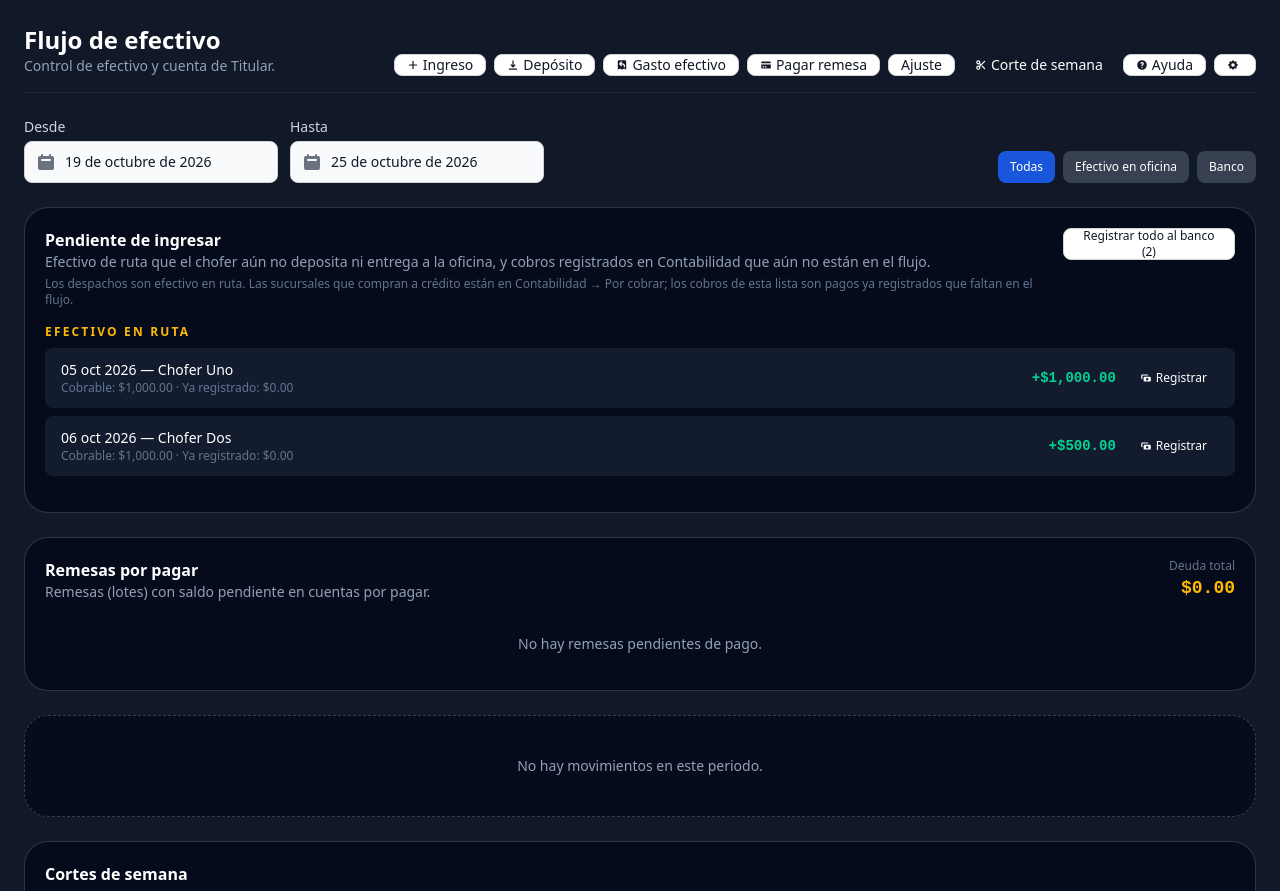
Test case: EggCashFlowPage › registers pending trips and summarizes failures
Click the button "Registrar todo al banco (2)": (1149, 244) [1063,228,1235,260]
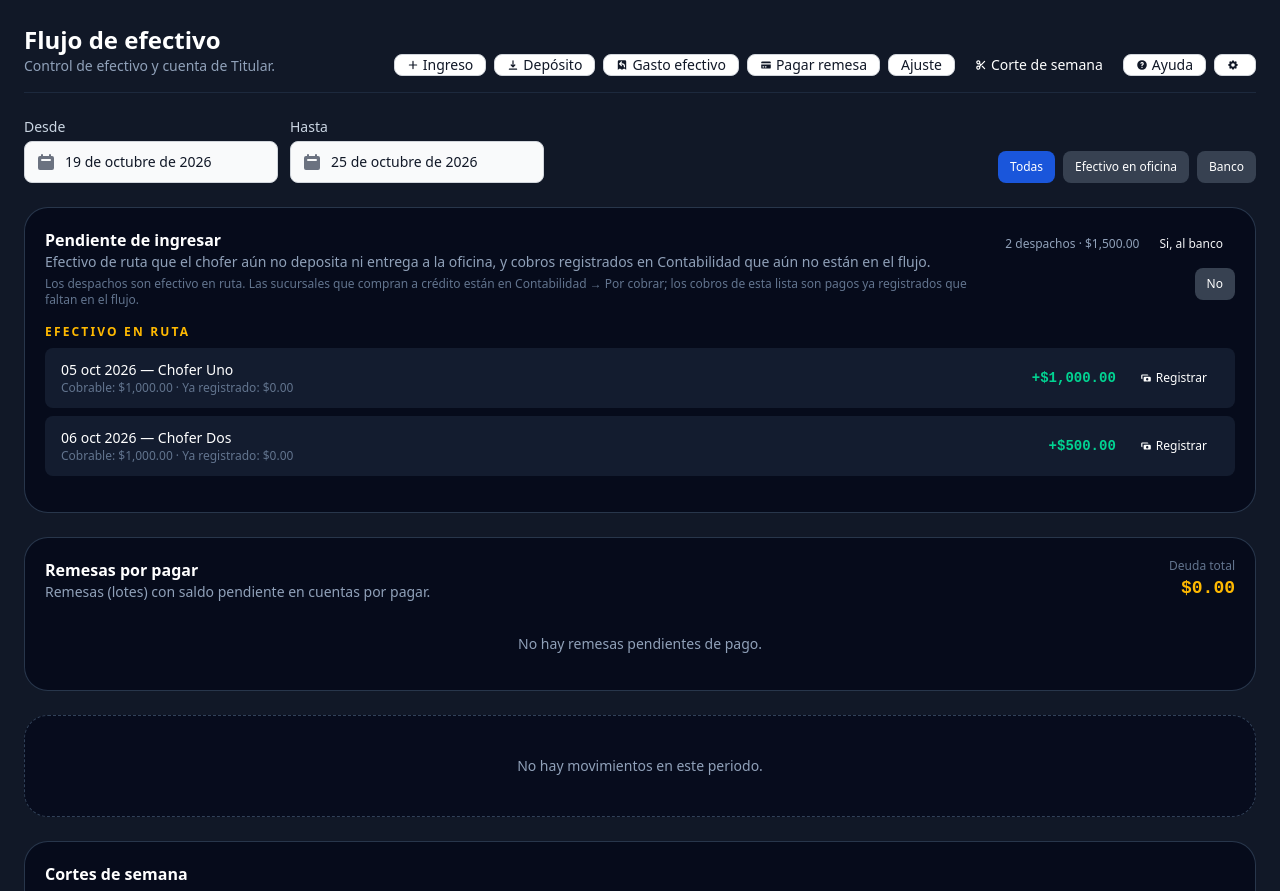
Click the button "Si, al banco": (1191, 244) [1148,228,1235,260]
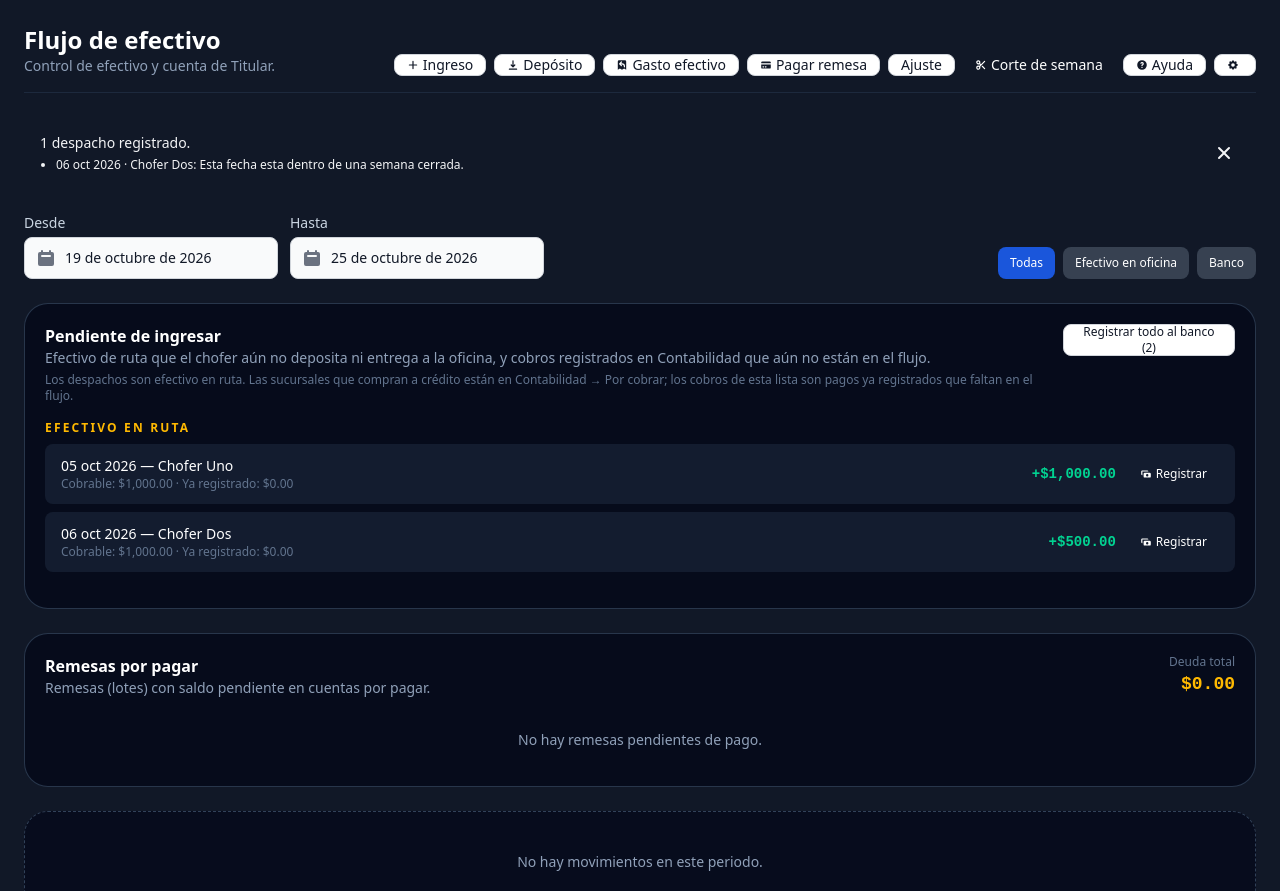
Now the text "1 despacho registrado." is shown, box [40,133,190,152]
Now the list item "semana cerrada" is shown, box [200,156,464,173]
